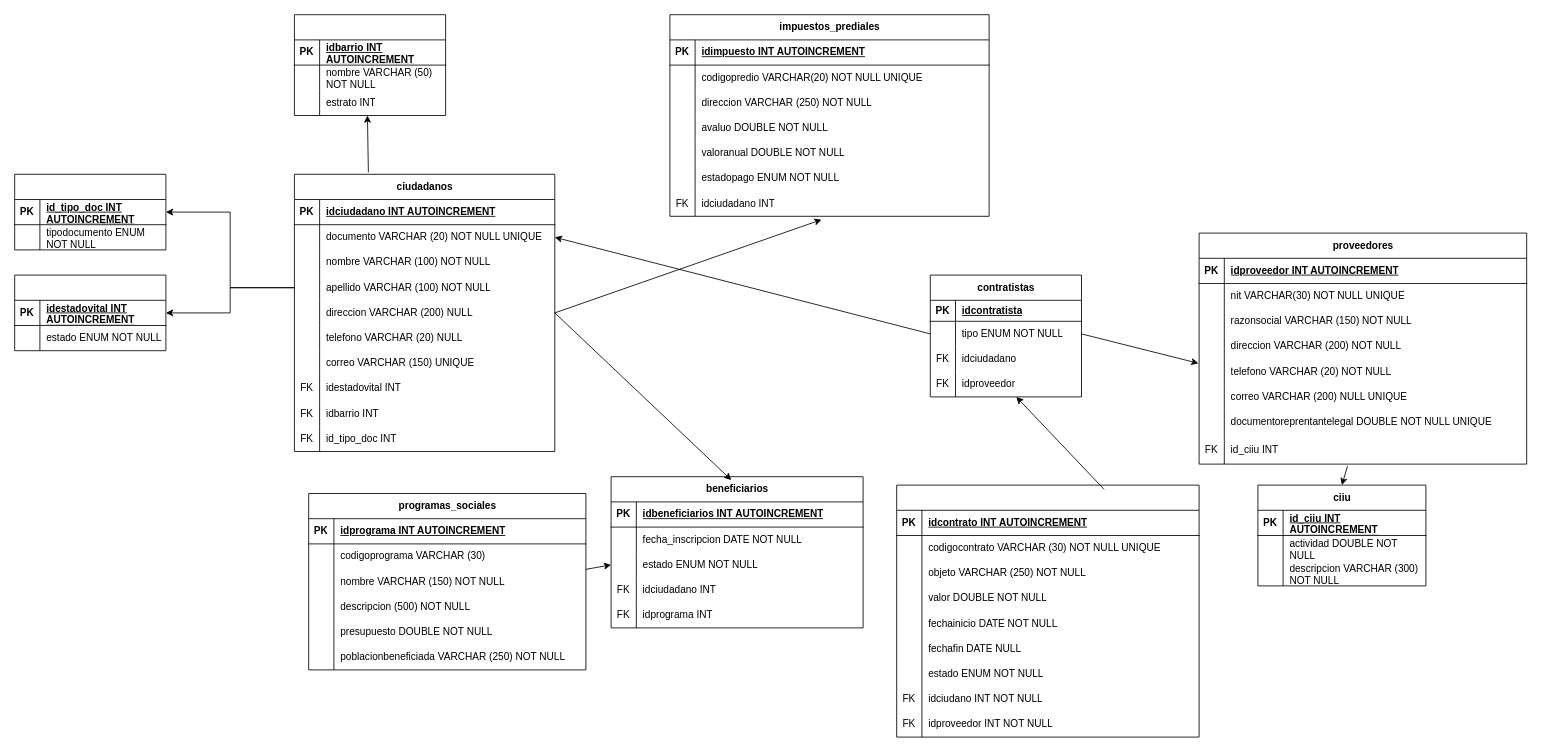
The diagram is 1541 pixels wide and 752 high, and some of its shapes have lost their labels. The box of each missing label's shape, as (x1, y1, x2, y2) in pixels:
barrios: (294, 14, 446, 116)
contratos: (896, 484, 1199, 737)
estadosvitales: (14, 274, 166, 351)
tiposdocumento: (14, 173, 166, 250)
